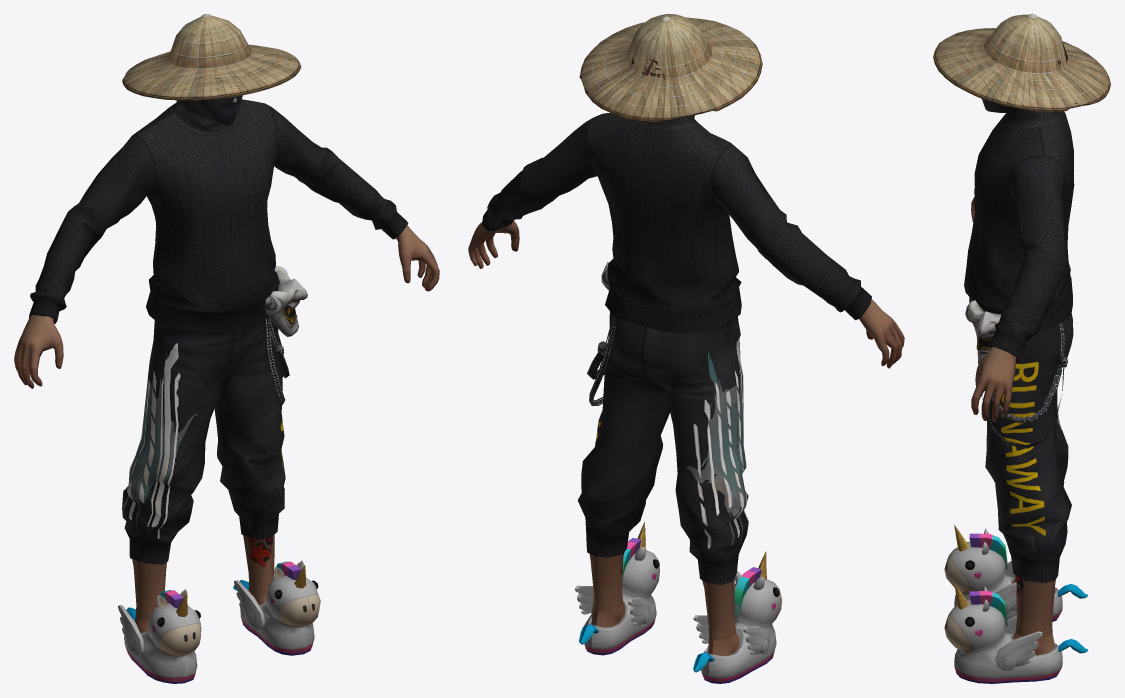
File: boy matha bee.glb
3 views of the same model, side by side, from view 1: azimuth 30°, elevation 25°; view 2: azimuth 150°, elevation 25°; view 3: azimuth 270°, elevation 25° (orthographic). The views are drawn at different scales.
Visible parts, largest first — view 1: boy matha bee; view 2: boy matha bee; view 3: boy matha bee.
Boxes of the visible parts, box(x1,y1,x2,y2) form: boy matha bee: box(14, 14, 439, 683); boy matha bee: box(468, 14, 904, 683); boy matha bee: box(933, 14, 1110, 683).
Size of the model in its own units: 0.6321 by 0.9111 by 0.2327.
Materials: 9 (9 with a texture image).
